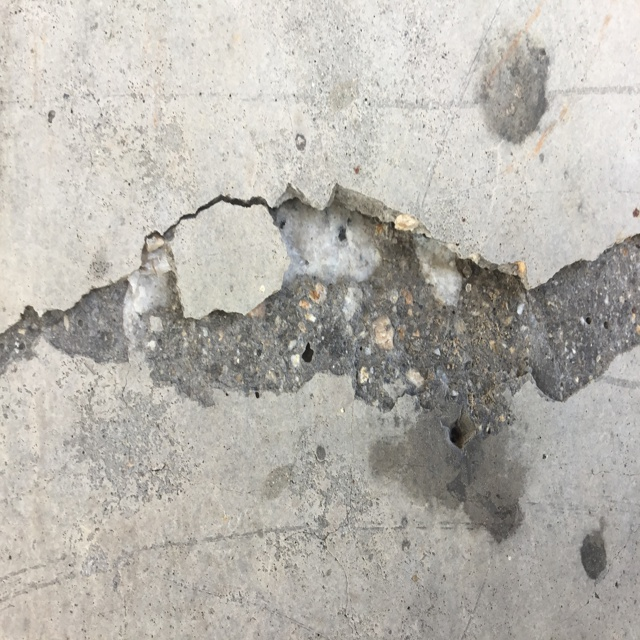spall: (53, 191, 640, 397)
